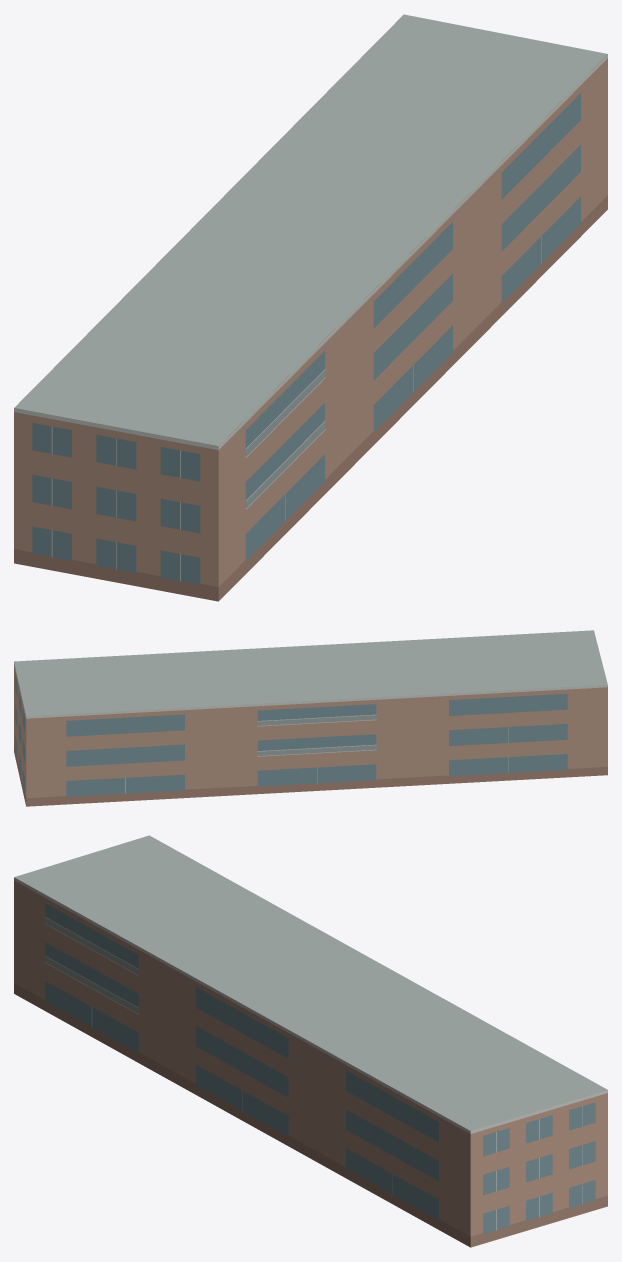
File: survey-upis-32756097.glb
3 views of the same model, one above another, from view 1: azimuth 30°, elevation 25°; view 2: azimuth 150°, elevation 25°; view 3: azimuth 270°, elevation 25° (orthographic). The views are drawn at different scales.
Parts seen in each view (by area): view 1: survey-upis-32756097.tmp; view 2: survey-upis-32756097.tmp; view 3: survey-upis-32756097.tmp.
Boxes of the visible parts, x1,y1,x2,y2 form: survey-upis-32756097.tmp: (14, 14, 607, 601); survey-upis-32756097.tmp: (14, 630, 607, 806); survey-upis-32756097.tmp: (14, 835, 607, 1247).
Bounding box in the file's own units: 49.77 × 9.15 × 42.25.
